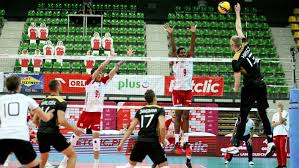ball: (217, 1, 231, 14)
